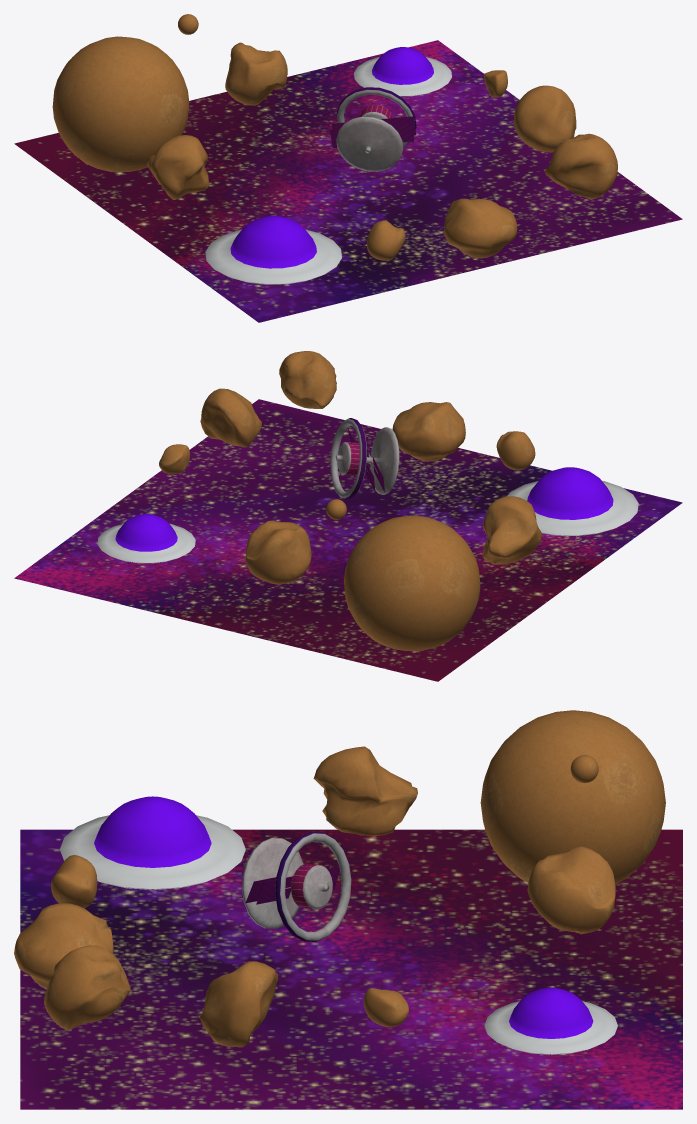
The model's file is Galaxy-PIA.glb.
The picture shows the model from 3 angles, top to bottom: view 1: azimuth 30°, elevation 25°; view 2: azimuth 150°, elevation 25°; view 3: azimuth 270°, elevation 25°; orthographic projection. The views are drawn at different scales.
Visible parts, largest first — view 1: polySurface1; view 2: polySurface1; view 3: polySurface1.
Boxes of the visible parts, box(x1,y1,x2,y2) form: polySurface1: box(14, 14, 682, 322); polySurface1: box(14, 351, 682, 681); polySurface1: box(14, 710, 682, 1109).
Bounding box in the file's own units: 27.38 × 8.1 × 27.65.
1 material, 1 textured.
